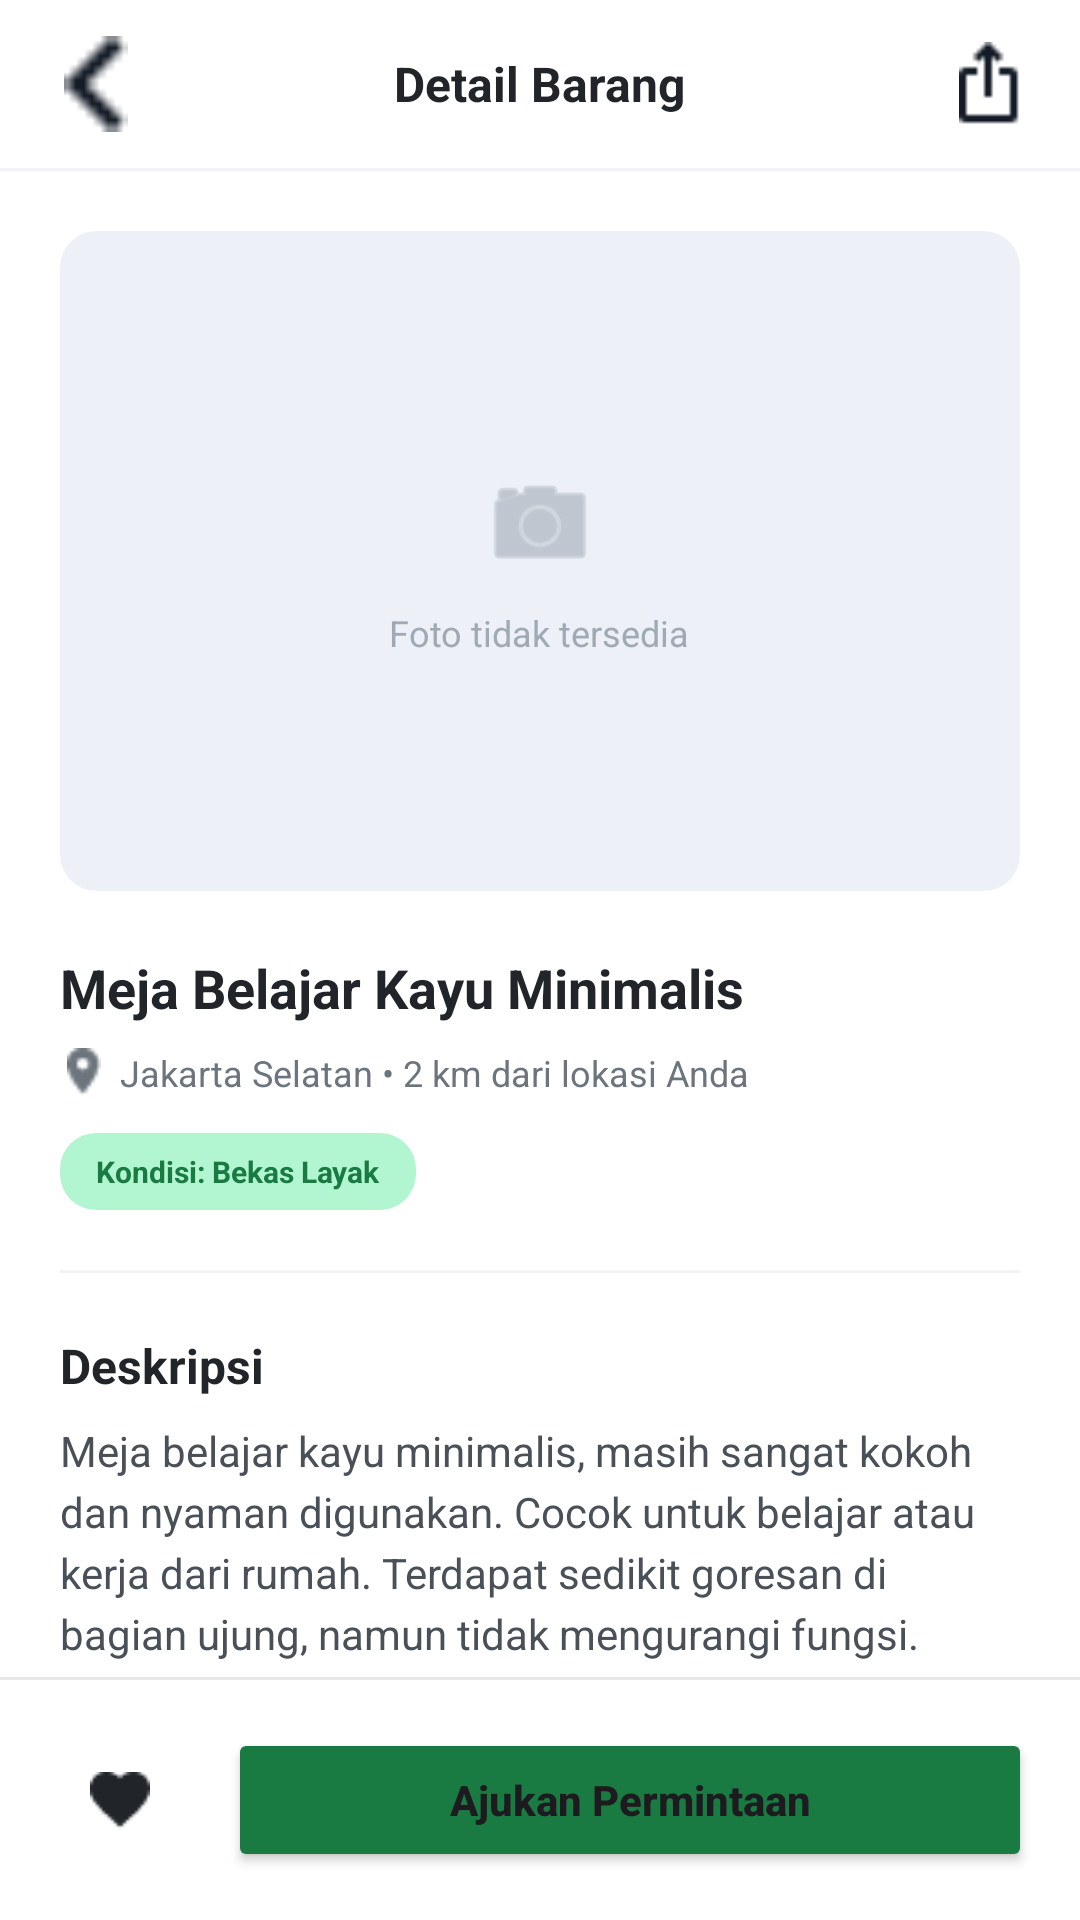

Icon click points for this 1080*1920 phone screenshot, format (x,y):
camera: (540,522)
chevron left: (96,84)
favorite: (120,1799)
location on: (84,1071)
share: (989,83)
